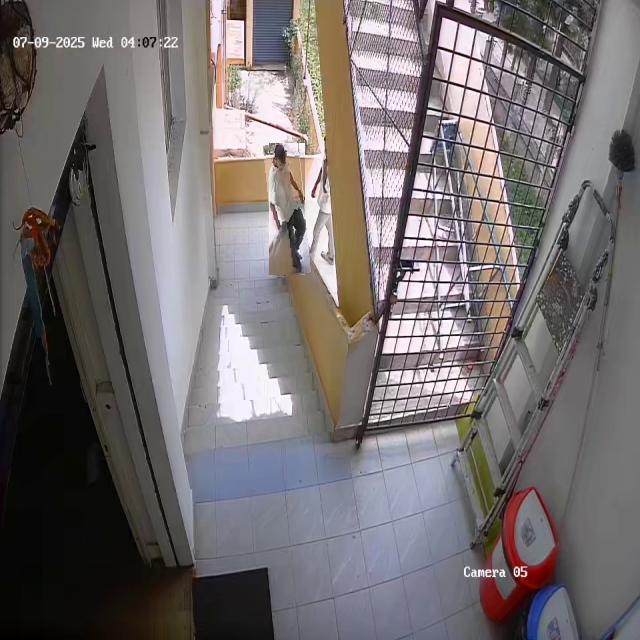person: (266, 143, 309, 276)
